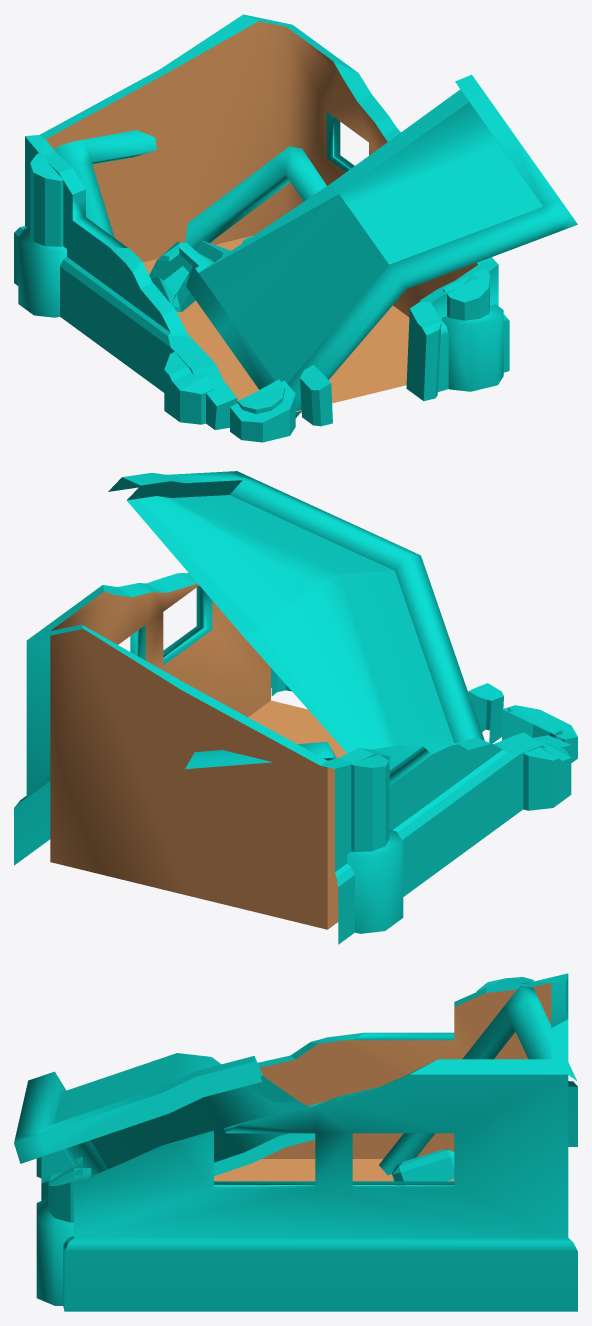
The model's file is SM_PlayerHouse_Detroyed.fbx.
3 views of the same model, one above another, from view 1: azimuth 30°, elevation 25°; view 2: azimuth 150°, elevation 25°; view 3: azimuth 270°, elevation 25° (orthographic). The views are drawn at different scales.
Parts seen in each view (by area): view 1: polySurface8; view 2: polySurface8; view 3: polySurface8.
Part boxes in pixels (bbox=[...]): polySurface8: bbox=[14, 14, 577, 442]; polySurface8: bbox=[14, 471, 577, 944]; polySurface8: bbox=[14, 973, 577, 1311].
Bounding box in the file's own units: 157 × 106 × 183.
